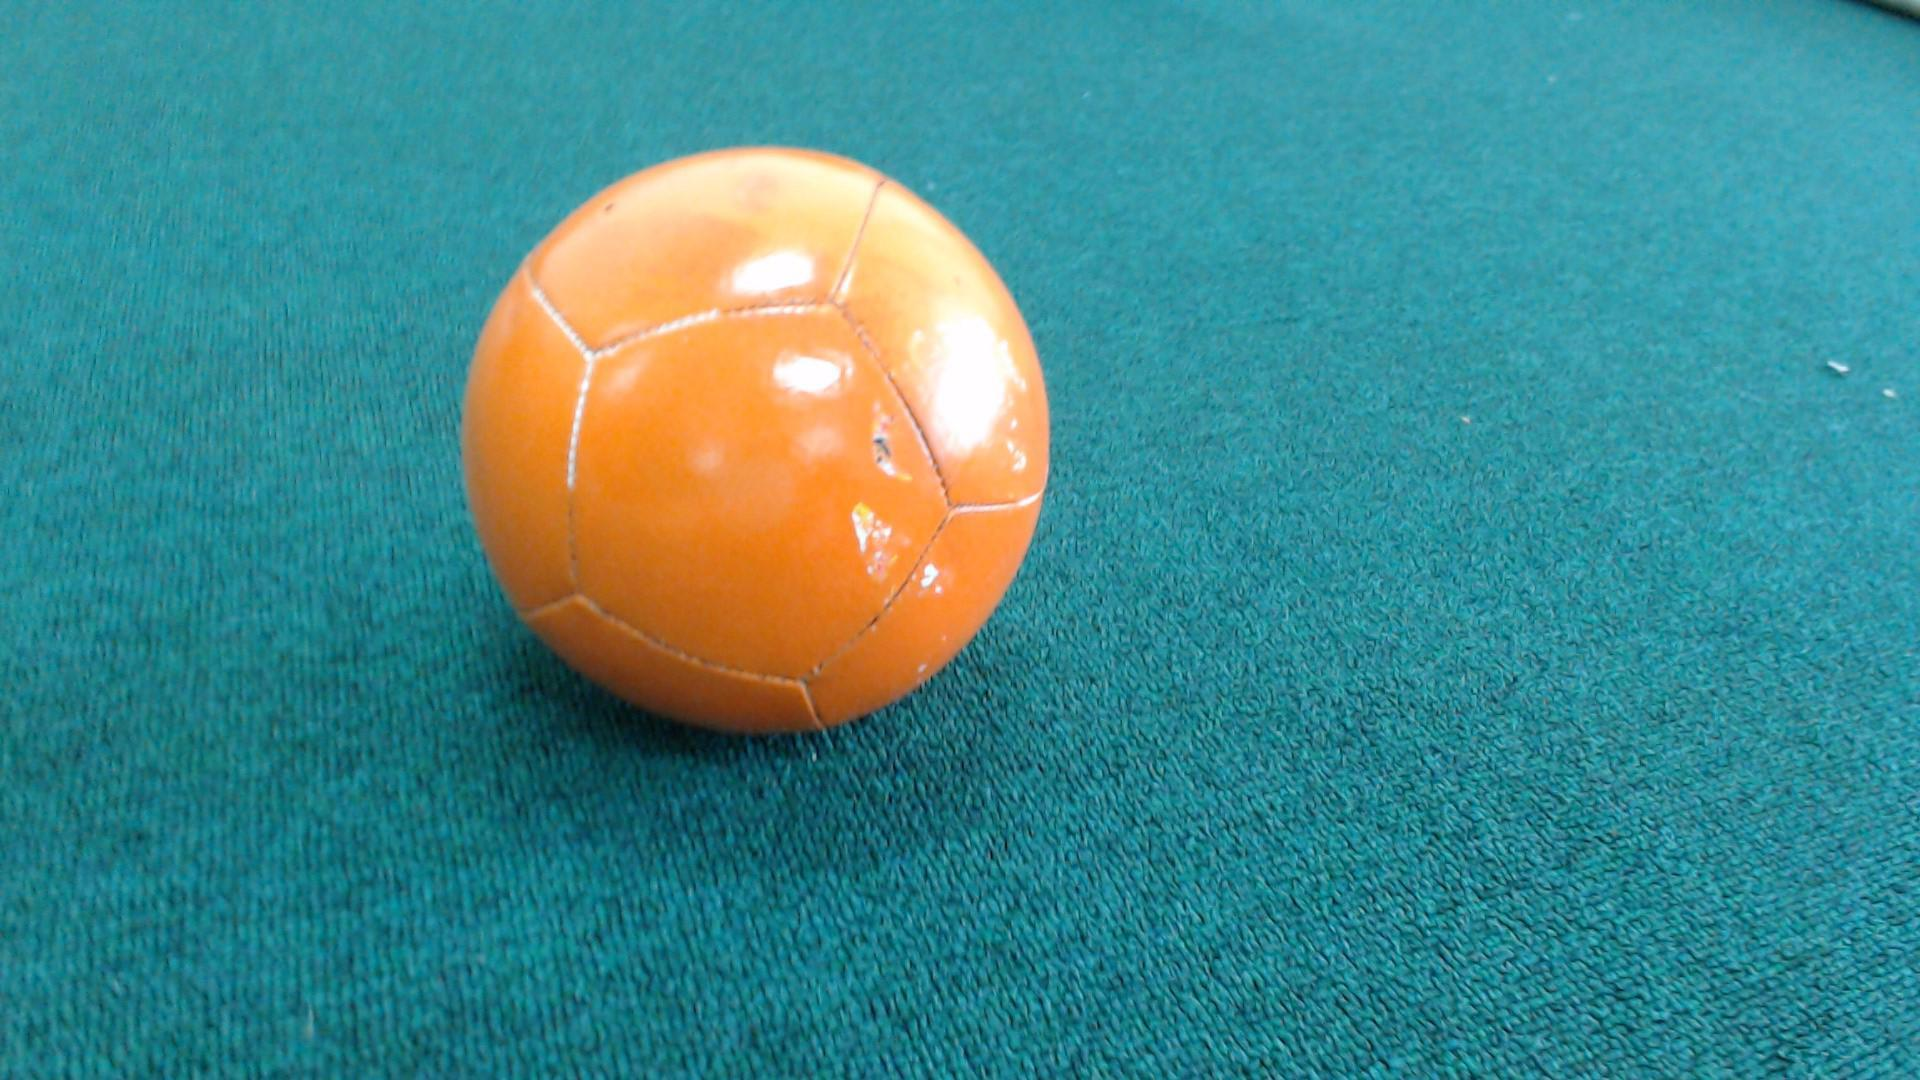bola: (462, 152, 1063, 756)
